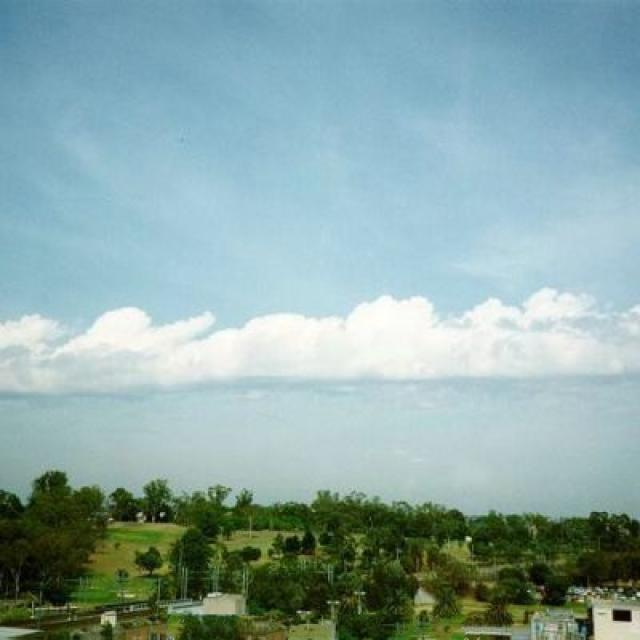Cs: (1, 135, 640, 444)
